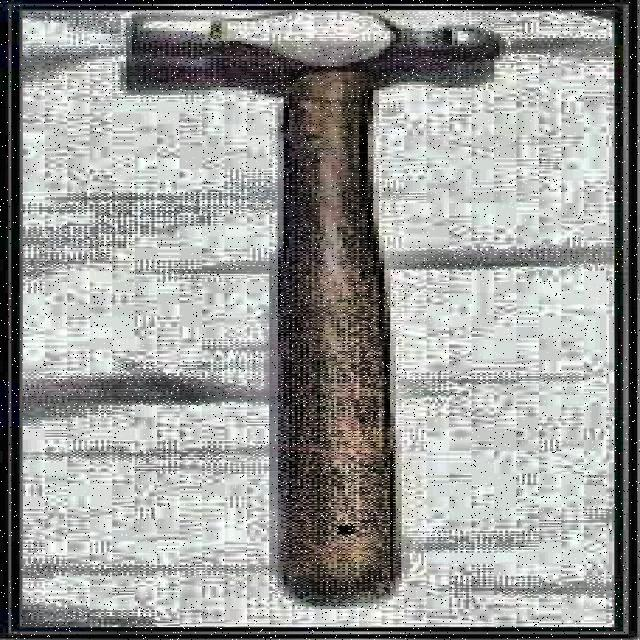hammer: (127, 12, 500, 602)
